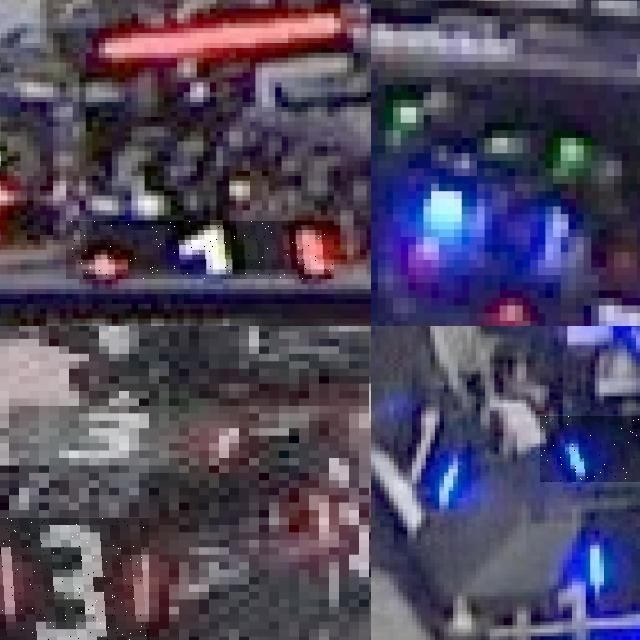B1: (378, 384, 464, 507), (540, 416, 640, 481), (565, 518, 640, 601)
R1: (66, 221, 334, 279)
R3: (0, 517, 149, 640), (0, 398, 239, 465)
